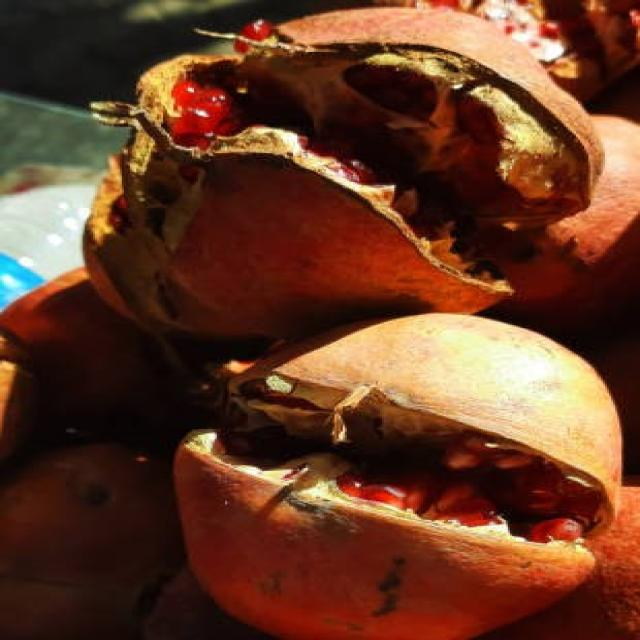overripe: (64, 3, 612, 308), (167, 310, 624, 640)
